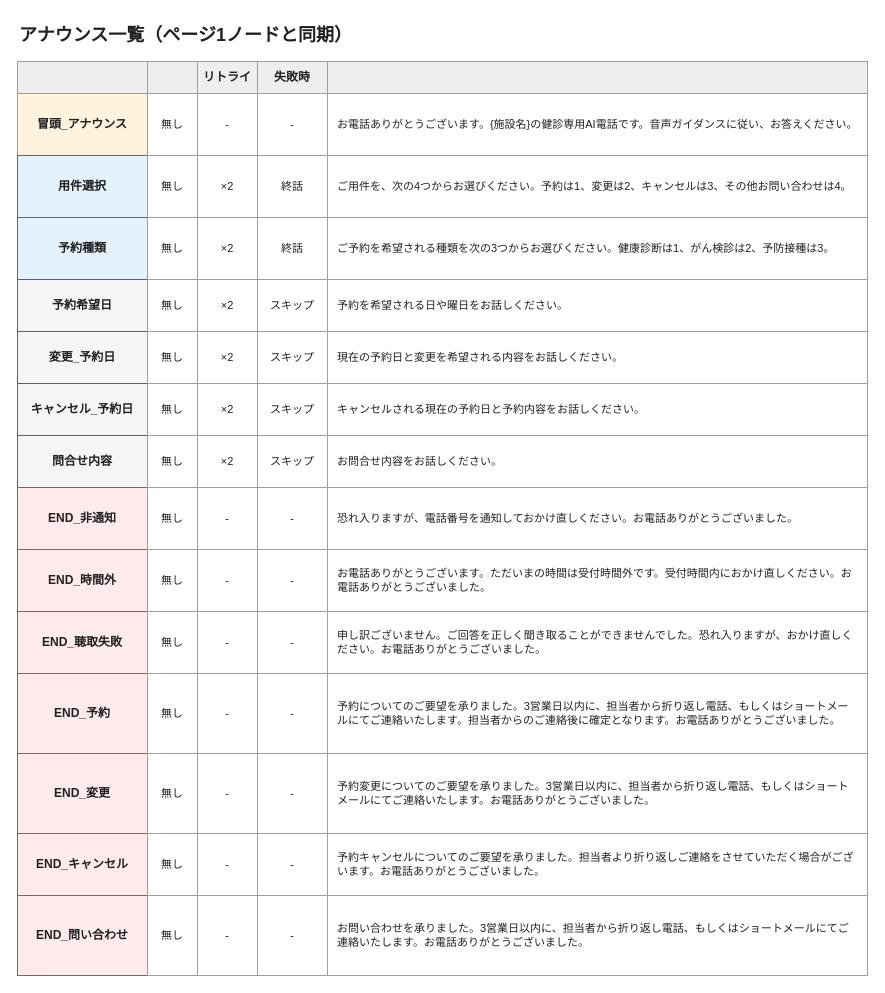
Some shapes in this 885 by 993 pixel diagram are drawn without their labels. Here are the shapes that lost their labels. From the top down, the centre of each, then its label:
At (82,77): "聴取項目".
At (172,77): "復唱".
At (597,77): "発話文言".
